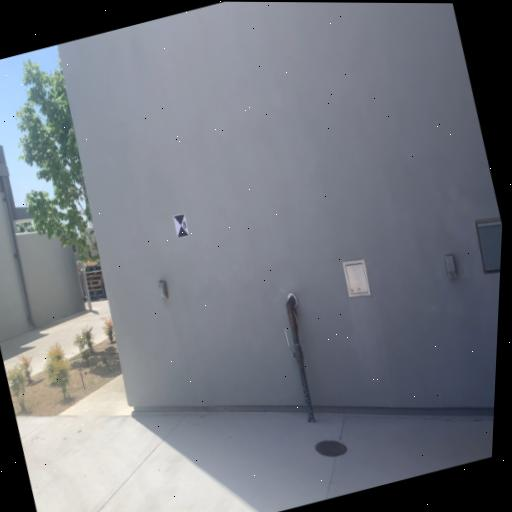target8: (171, 212, 191, 238)
